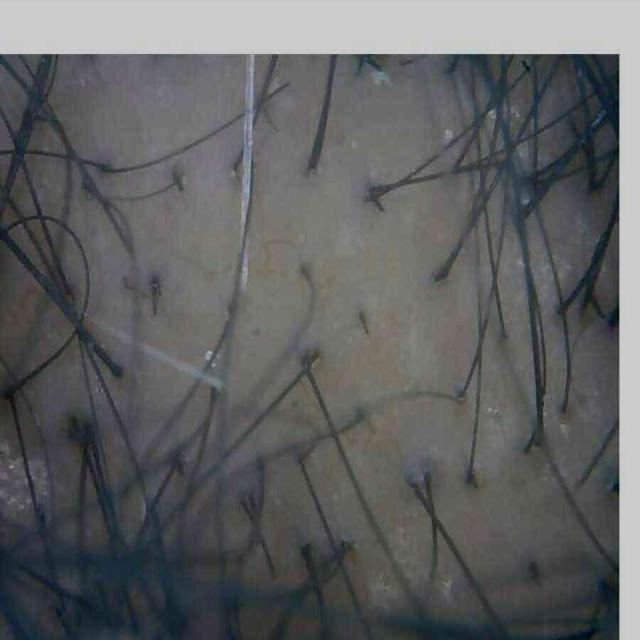d: (369, 67, 394, 88), (443, 126, 456, 146), (520, 196, 531, 206), (205, 349, 212, 361)
ds: (0, 429, 32, 524), (26, 455, 51, 510), (367, 567, 397, 610), (388, 538, 413, 570), (438, 567, 455, 605), (514, 140, 535, 167), (484, 103, 501, 133)
